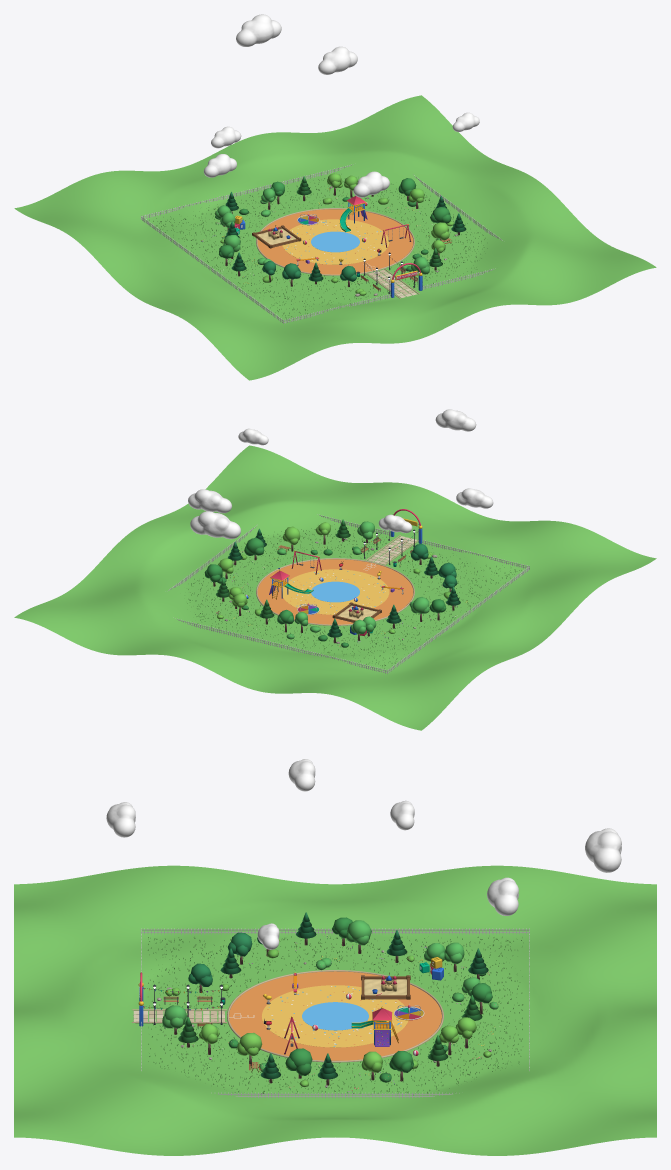
Rendered from playground.glb.
3 renders of one model, top to bottom at view 1: azimuth 30°, elevation 25°; view 2: azimuth 150°, elevation 25°; view 3: azimuth 270°, elevation 25°, orthographic. The views are drawn at different scales.
Parts seen in each view (by area): view 1: Ground, Playground, Cloud; view 2: Ground, Playground, Cloud; view 3: Ground, Playground, Cloud.
Part boxes in pixels (box(x1,y1,x2,y2)): Ground: box(14, 95, 656, 380); Playground: box(141, 164, 502, 323); Cloud: box(203, 14, 479, 197); Ground: box(14, 445, 656, 730); Playground: box(168, 509, 529, 673); Cloud: box(188, 409, 493, 539); Ground: box(14, 865, 656, 1155); Playground: box(138, 912, 529, 1098); Cloud: box(106, 759, 621, 949).
Size of the model in its own units: 96 by 33.73 by 96.
